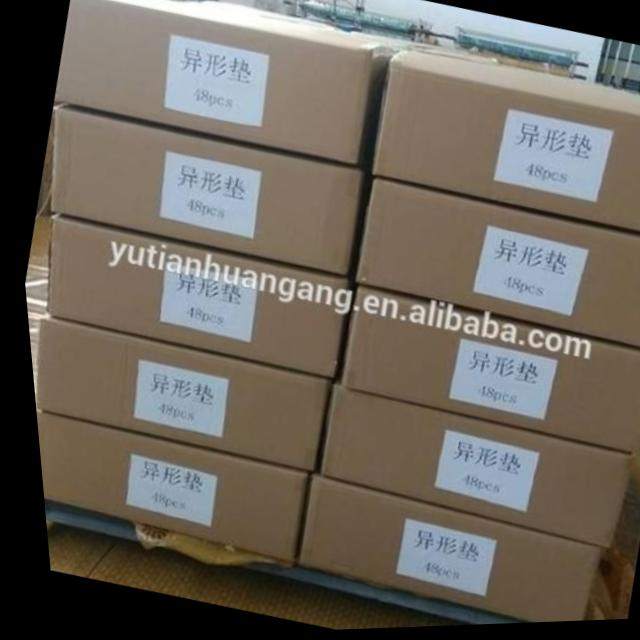box: (52, 0, 399, 168), (47, 102, 361, 279), (310, 382, 623, 553), (334, 286, 640, 459), (39, 213, 343, 381), (349, 180, 640, 354), (369, 52, 640, 238), (29, 313, 324, 473), (286, 472, 591, 626), (28, 407, 299, 565)
